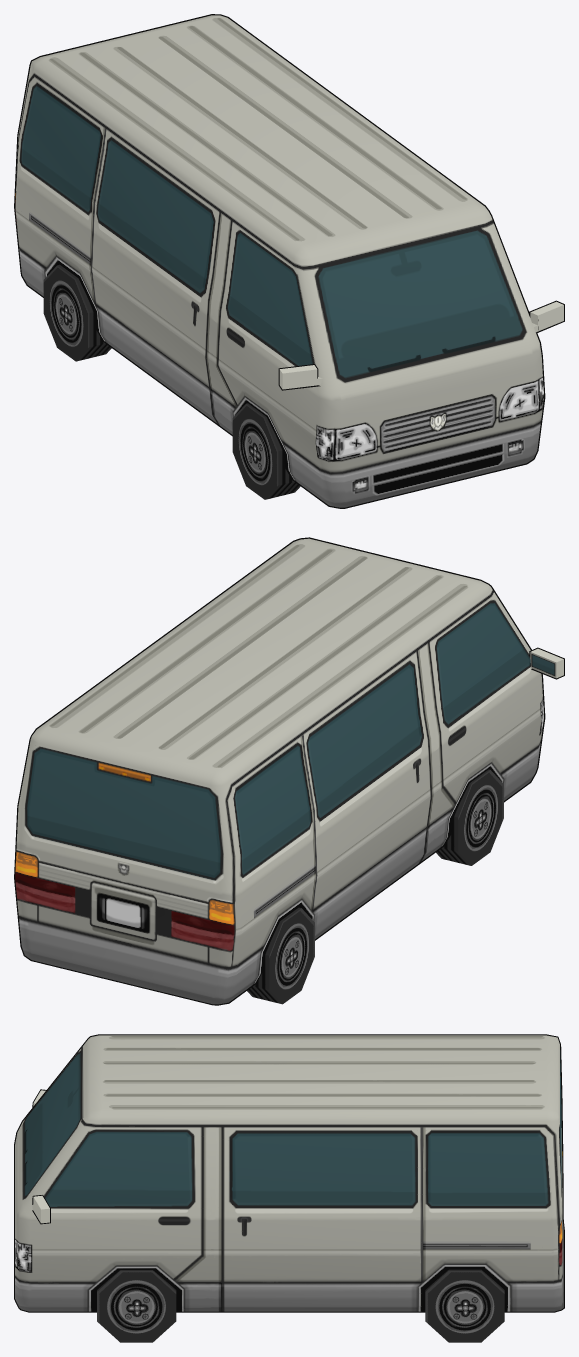
3 renders of one model, top to bottom at view 1: azimuth 30°, elevation 25°; view 2: azimuth 150°, elevation 25°; view 3: azimuth 270°, elevation 25°, orthographic. The views are drawn at different scales.
Visible parts, largest first — view 1: 1999 Toyota Hiace Body_0, 1999 Toyota Hiace wheels_2, 1999 Toyota Hiace Mirros_1; view 2: 1999 Toyota Hiace Body_0, 1999 Toyota Hiace wheels_2, 1999 Toyota Hiace Mirros_1; view 3: 1999 Toyota Hiace Body_0, 1999 Toyota Hiace wheels_2, 1999 Toyota Hiace Mirros_1.
Part boxes in pixels (<box>): 1999 Toyota Hiace Body_0: <box>14,14,545,508</box>; 1999 Toyota Hiace wheels_2: <box>43,264,300,499</box>; 1999 Toyota Hiace Mirros_1: <box>278,300,564,390</box>; 1999 Toyota Hiace Body_0: <box>14,537,545,1005</box>; 1999 Toyota Hiace wheels_2: <box>247,769,503,1004</box>; 1999 Toyota Hiace Mirros_1: <box>529,647,564,679</box>; 1999 Toyota Hiace Body_0: <box>14,1034,564,1312</box>; 1999 Toyota Hiace wheels_2: <box>97,1269,504,1342</box>; 1999 Toyota Hiace Mirros_1: <box>32,1089,50,1224</box>.
Bounding box in the file's own units: 2.57 × 2.23 × 4.98.
Materials: 3 (3 with a texture image).
